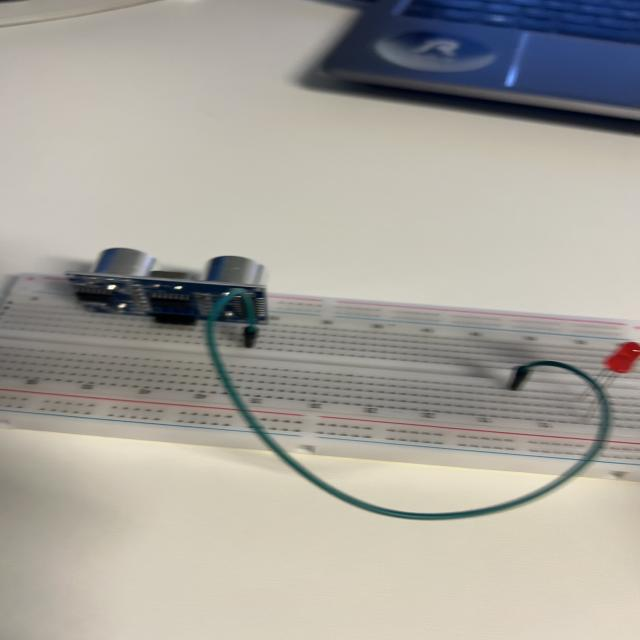BreadBoard: (0, 271, 623, 478)
REDLed: (571, 344, 640, 413)
UltrasoneSensor: (56, 237, 290, 322)
